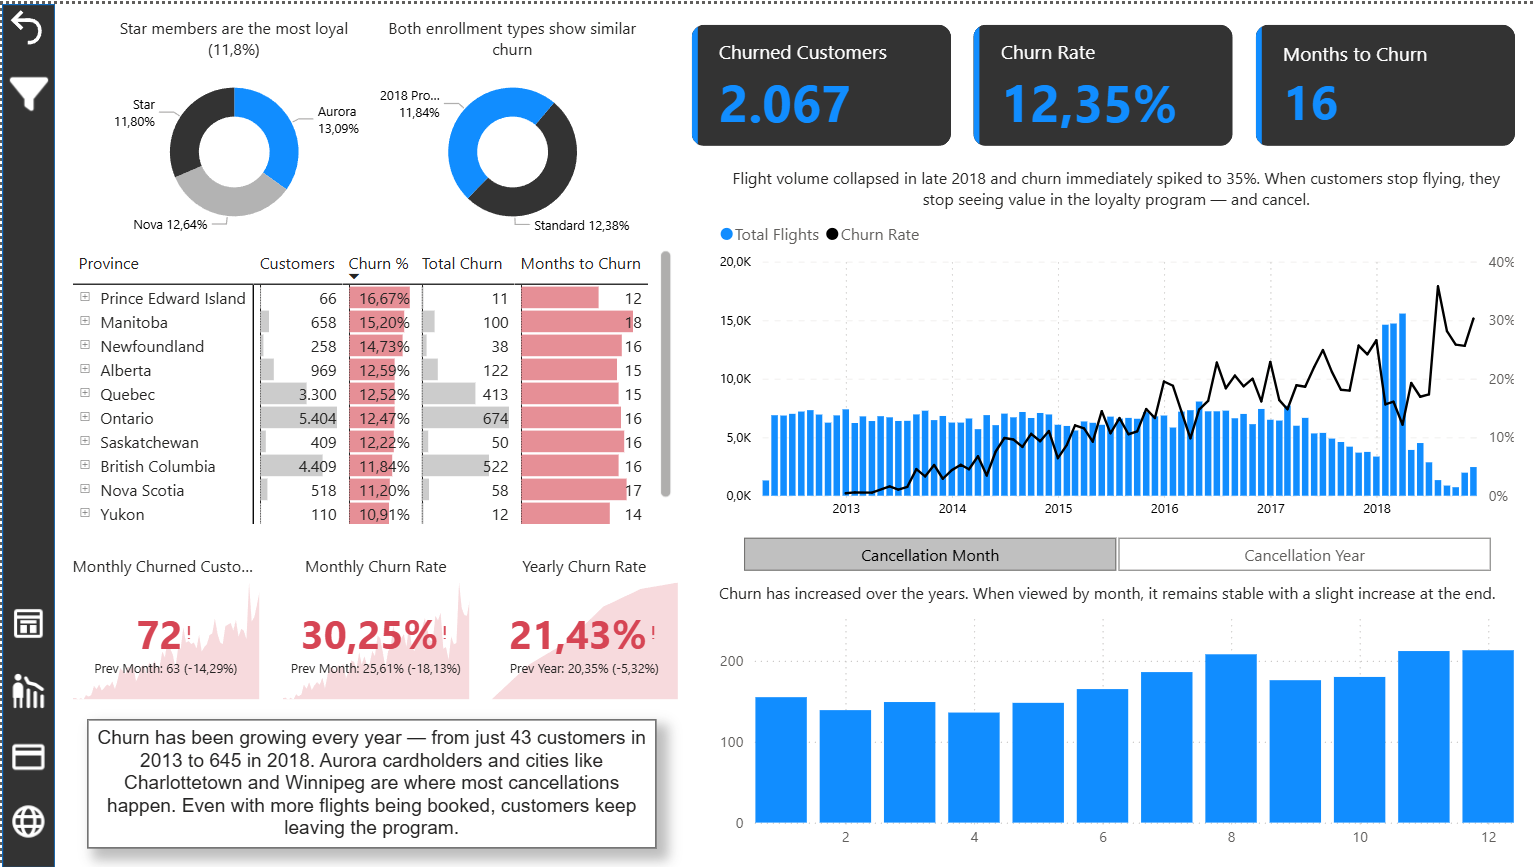

The page's visual inventory and layout, read from the dashboard file:
{"tool":"powerbi","page":{"name":"Churn Analysis","canvas":[1280,720],"ordinal":1},"visuals":[{"type":"kpi","title":"Monthly Churn Rate","fields":{"TrendLine":["Calendar.StartOfMonth"],"Indicator":["Measures DAX.Churn Rate (Time)"],"Goal":["Measures DAX.Previous Month Churn Rate"]},"box":[228.6,458.1,165.6,125.6],"z":1000},{"type":"pivotTable","fields":{"Rows":["Customer_Loyalty_History.Province","Customer_Loyalty_History.City"],"Values":["Measures DAX.Total Customers (Time)","Measures DAX.Churn Rate (Time)","Measures DAX.Churned Customers (Time)","Measures DAX.Avg Tenure Before Churn"]},"box":[53.8,200,508.8,237.5],"z":2000},{"type":"shape","box":[0,0,44.3,720],"z":3000},{"type":"cardVisual","fields":{"Data":["Measures DAX.Churned Customers (Time)","Measures DAX.Churn Rate (Time)","Measures DAX.Avg Tenure Before Churn"]},"box":[557.8,0,722.2,135],"z":4000},{"type":"actionButton","box":[1.4,0,44.3,38.6],"z":5000},{"type":"actionButton","box":[2,55,44.3,40],"z":6000},{"type":"donutChart","title":"Star members are the most loyal (11,8%)","fields":{"Category":["Customer_Loyalty_History.LoyaltyCard"],"Y":["Measures DAX.Churn Rate (Time)"]},"box":[77.1,10,231.4,190],"z":7000},{"type":"lineStackedColumnComboChart","title":"Flight volume collapsed in late 2018 and churn immediately spiked to 35%. When customers stop flying, they stop seeing value in the loyalty program — and cancel.","fields":{"Category":["Calendar.StartOfMonth"],"Y2":["Measures DAX.Churn Rate (Time)"],"Y":["Measures DAX.Total Flights (Time)"]},"box":[592.1,135.6,672.1,302.4],"z":8000},{"type":"clusteredColumnChart","title":"Churn has increased over the years. When viewed by month, it remains stable with a slight increase at the end.","fields":{"Category":["Customer_Loyalty_History.CancellationMonth"],"Y":["Measures DAX.Churned Customers (Time)"]},"box":[592.1,480.9,672.1,230.6],"z":9000},{"type":"kpi","title":"\tMonthly Churned Customers","fields":{"TrendLine":["Calendar.StartOfMonth"],"Indicator":["Measures DAX.Churned Customers (Time)"],"Goal":["Measures DAX.Previous Month Churned Customers"]},"box":[54.1,458.1,165.6,125.6],"z":10000},{"type":"slicer","fields":{"Values":["Parameter 2.Parameter"]},"box":[592.1,438,672.1,41.7],"z":11000},{"type":"donutChart","title":"Both enrollment types show similar churn","fields":{"Y":["Measures DAX.Churn Rate (Time)"],"Category":["Customer_Loyalty_History.EnrollmentType"]},"box":[308.6,10,232.9,190],"z":12000},{"type":"kpi","title":"Yearly Churn Rate","fields":{"Indicator":["Measures DAX.Churn Rate (Time)"],"Goal":["Measures DAX.Previous Year Churn Rate"],"TrendLine":["Calendar.StartOfYear"]},"box":[403,458.1,165.6,125.6],"z":13000},{"type":"textbox","box":[71.4,595.7,474.3,107.1],"z":14000},{"type":"actionButton","box":[0,496.7,44.2,40],"z":15000},{"type":"actionButton","box":[0,551.9,44.4,40],"z":16000},{"type":"actionButton","box":[0,607.3,44.4,40],"z":17000},{"type":"actionButton","box":[0,661.4,44.3,40],"z":18000}]}

Visuals, with their boxes on the page's 1280x720 design canvas (x1, y1, x2, y2). These are canvas units, not pixel positions in the 1535x867 screenshot, which may show the page scaled, cropped or inside an application window:
"Monthly Churn Rate" kpi: 229, 458, 394, 584
pivotTable - Customer_Loyalty_History.Province x Customer_Loyalty_History.City: 54, 200, 563, 438
shape: 0, 0, 44, 720
cardVisual - Measures DAX.Churned Customers (Time) x Measures DAX.Churn Rate (Time): 558, 0, 1280, 135
actionButton: 1, 0, 46, 39
actionButton: 2, 55, 46, 95
"Star members are the most loyal (11,8%)" donutChart: 77, 10, 308, 200
"Flight volume collapsed in late 2018 and churn immediately spiked to 35%. When customers stop flying, they stop seeing value in the loyalty program — and cancel." lineStackedColumnComboChart: 592, 136, 1264, 438
"Churn has increased over the years. When viewed by month, it remains stable with a slight increase at the end." clusteredColumnChart: 592, 481, 1264, 712
"	Monthly Churned Customers" kpi: 54, 458, 220, 584
slicer - Parameter 2.Parameter: 592, 438, 1264, 480
"Both enrollment types show similar churn" donutChart: 309, 10, 542, 200
"Yearly Churn Rate" kpi: 403, 458, 569, 584
textbox: 71, 596, 546, 703
actionButton: 0, 497, 44, 537
actionButton: 0, 552, 44, 592
actionButton: 0, 607, 44, 647
actionButton: 0, 661, 44, 701
